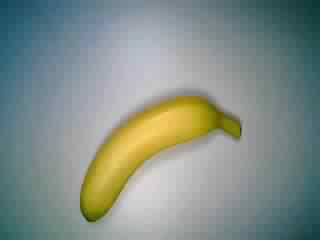banana: (78, 91, 246, 223)
